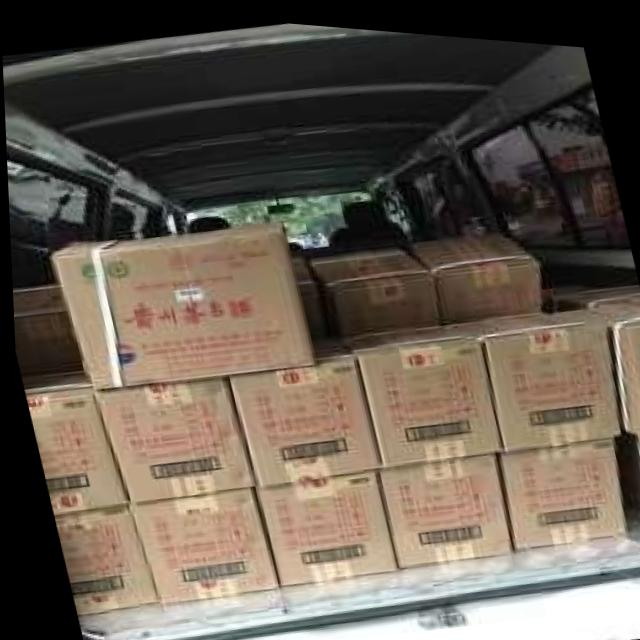box: (46, 219, 320, 384), (224, 324, 381, 482), (445, 298, 618, 440), (341, 316, 497, 461), (87, 371, 256, 500), (125, 482, 275, 604), (374, 441, 511, 564), (254, 463, 393, 578), (22, 364, 124, 517), (493, 421, 626, 537), (301, 236, 444, 331), (402, 220, 540, 314), (50, 501, 154, 616), (581, 285, 640, 425), (10, 286, 80, 373), (288, 245, 329, 331), (565, 270, 637, 297), (617, 420, 640, 498), (543, 271, 596, 300)
